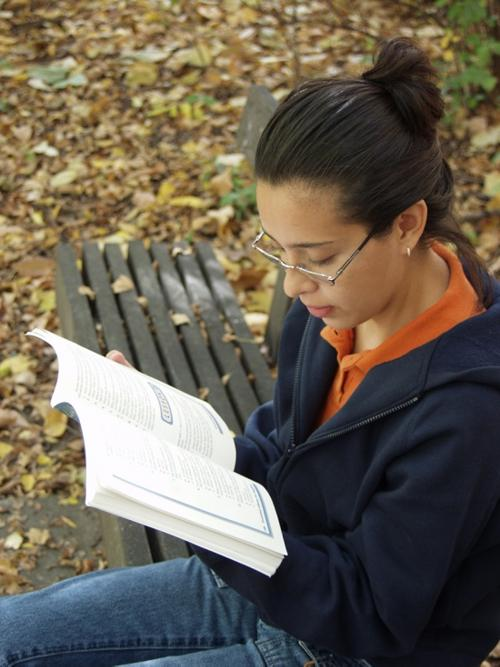person: (4, 38, 500, 664)
